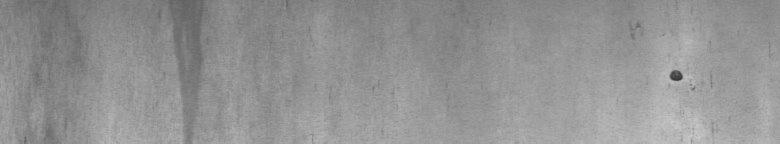fi: (631, 23, 696, 91)
